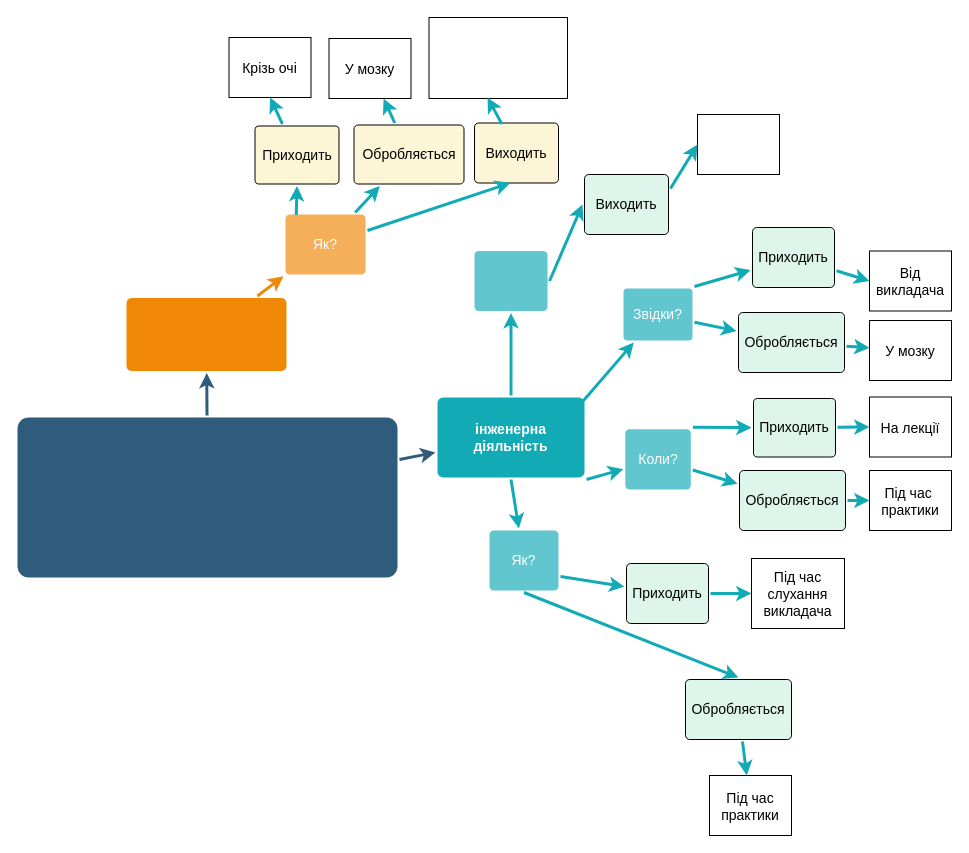
Image size: 969x853. Some labels were removed from this diagram. The centre of each missing label's shape, as x and y in pixels:
Комфортне, та добре освітлення вулиць: (498,57)
Новий досвід: (738,144)
освітленість навколишнього середовища: (206,334)
Потреби: (207,497)
Що?: (510,280)
